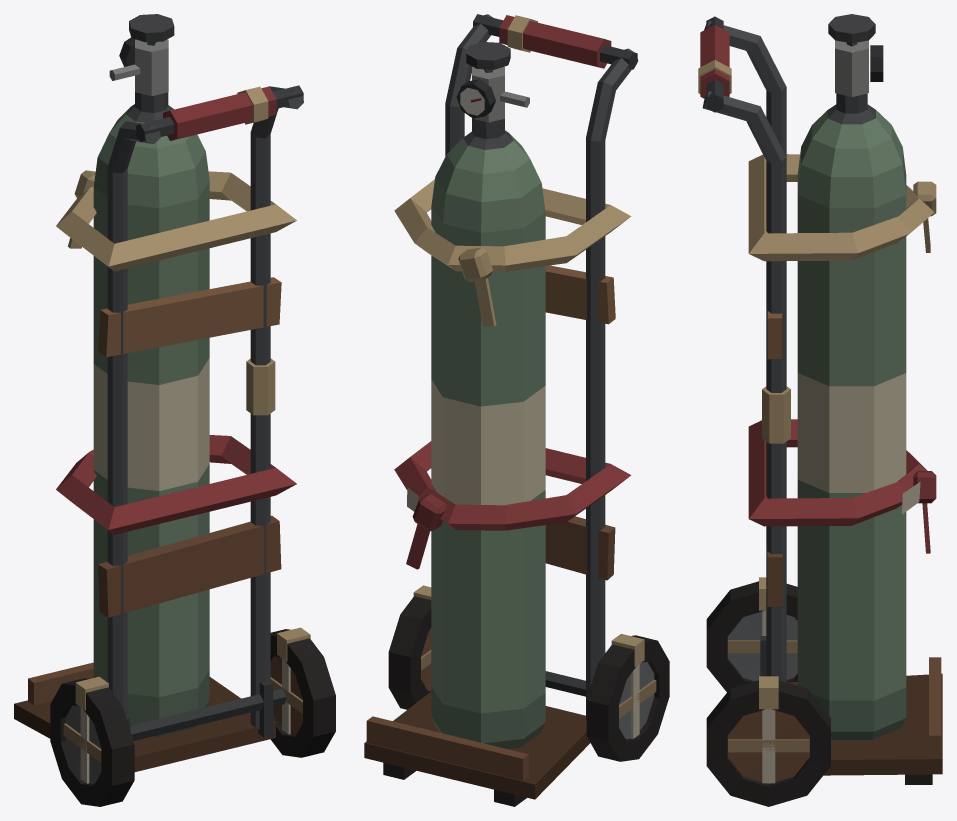
File: tl_veh_oxygen_trolley_v01.glb
The picture shows the model from 3 angles, left to right: view 1: azimuth 30°, elevation 25°; view 2: azimuth 150°, elevation 25°; view 3: azimuth 270°, elevation 25°; orthographic projection. The views are drawn at different scales.
Visible parts, largest first — view 1: tl_veh_oxygen_trolley_v01, wheel_r, wheel_l; view 2: tl_veh_oxygen_trolley_v01, wheel_r, wheel_l; view 3: tl_veh_oxygen_trolley_v01, wheel_l, wheel_r.
Boxes of the visible parts, box(x1,y1,x2,y2) form: tl_veh_oxygen_trolley_v01: box(14, 14, 303, 771); wheel_r: box(50, 676, 134, 806); wheel_l: box(270, 627, 335, 757); tl_veh_oxygen_trolley_v01: box(364, 14, 638, 806); wheel_r: box(586, 633, 669, 761); wheel_l: box(388, 585, 431, 709); tl_veh_oxygen_trolley_v01: box(698, 14, 942, 784); wheel_l: box(706, 676, 830, 806); wheel_r: box(706, 577, 797, 692).
Size of the model in its own units: 0.34 by 1.04 by 0.3176.
